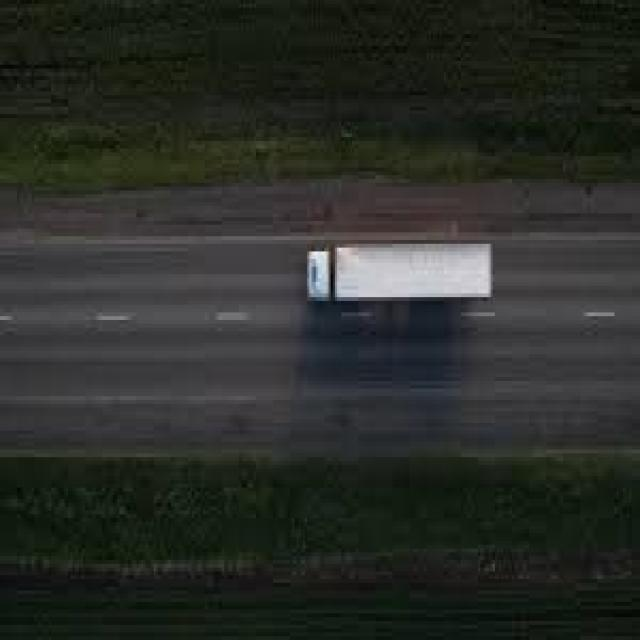truck: (304, 242, 494, 302)
